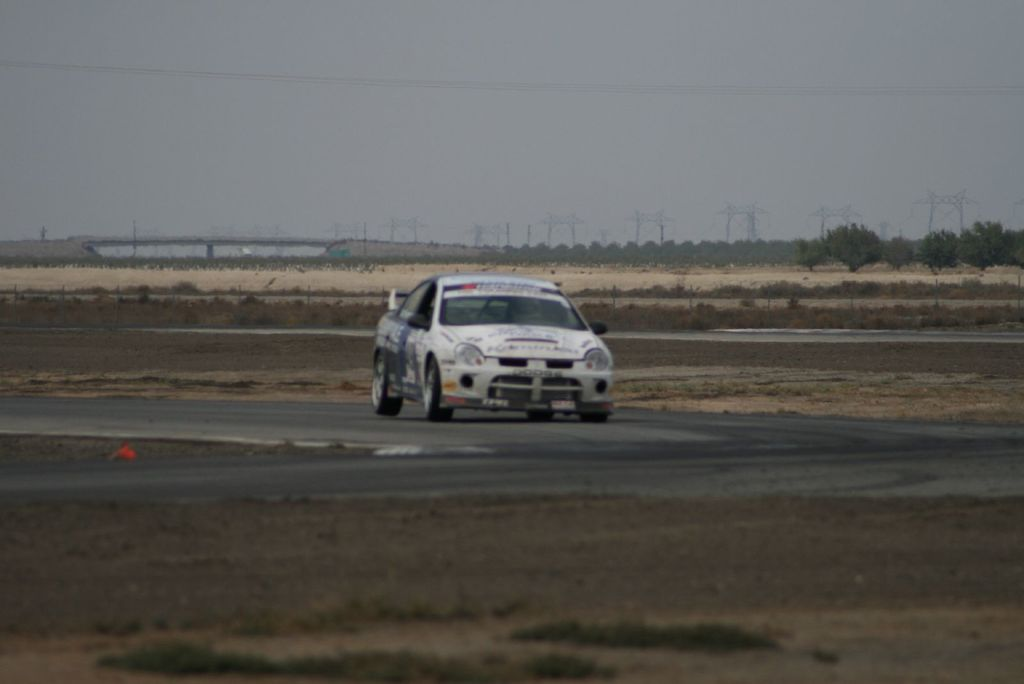Car: (373, 272, 618, 420)
